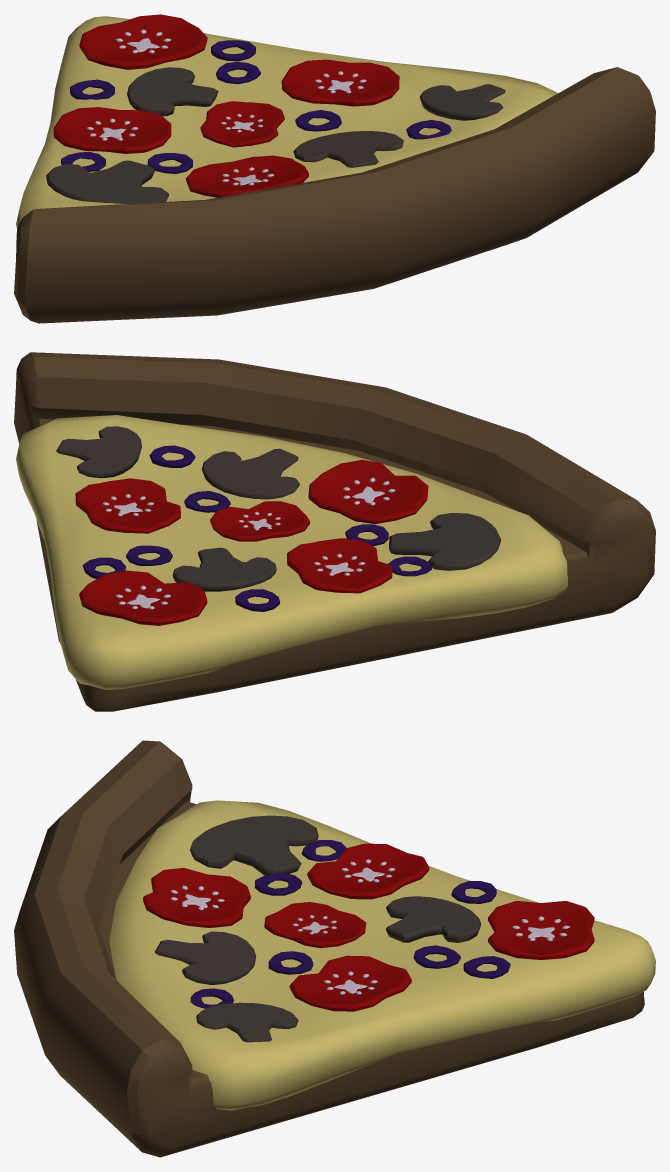
The model's file is Pizza_4.FBX.
The picture shows the model from 3 angles, top to bottom: view 1: azimuth 30°, elevation 25°; view 2: azimuth 150°, elevation 25°; view 3: azimuth 270°, elevation 25°; orthographic projection. The views are drawn at different scales.
Parts seen in each view (by area): view 1: Pizza_4; view 2: Pizza_4; view 3: Pizza_4.
Boxes of the visible parts, box(x1,y1,x2,y2) form: Pizza_4: box(14, 14, 655, 323); Pizza_4: box(14, 352, 655, 711); Pizza_4: box(14, 740, 655, 1157).
Bounding box in the file's own units: 1174 × 982 × 206.
